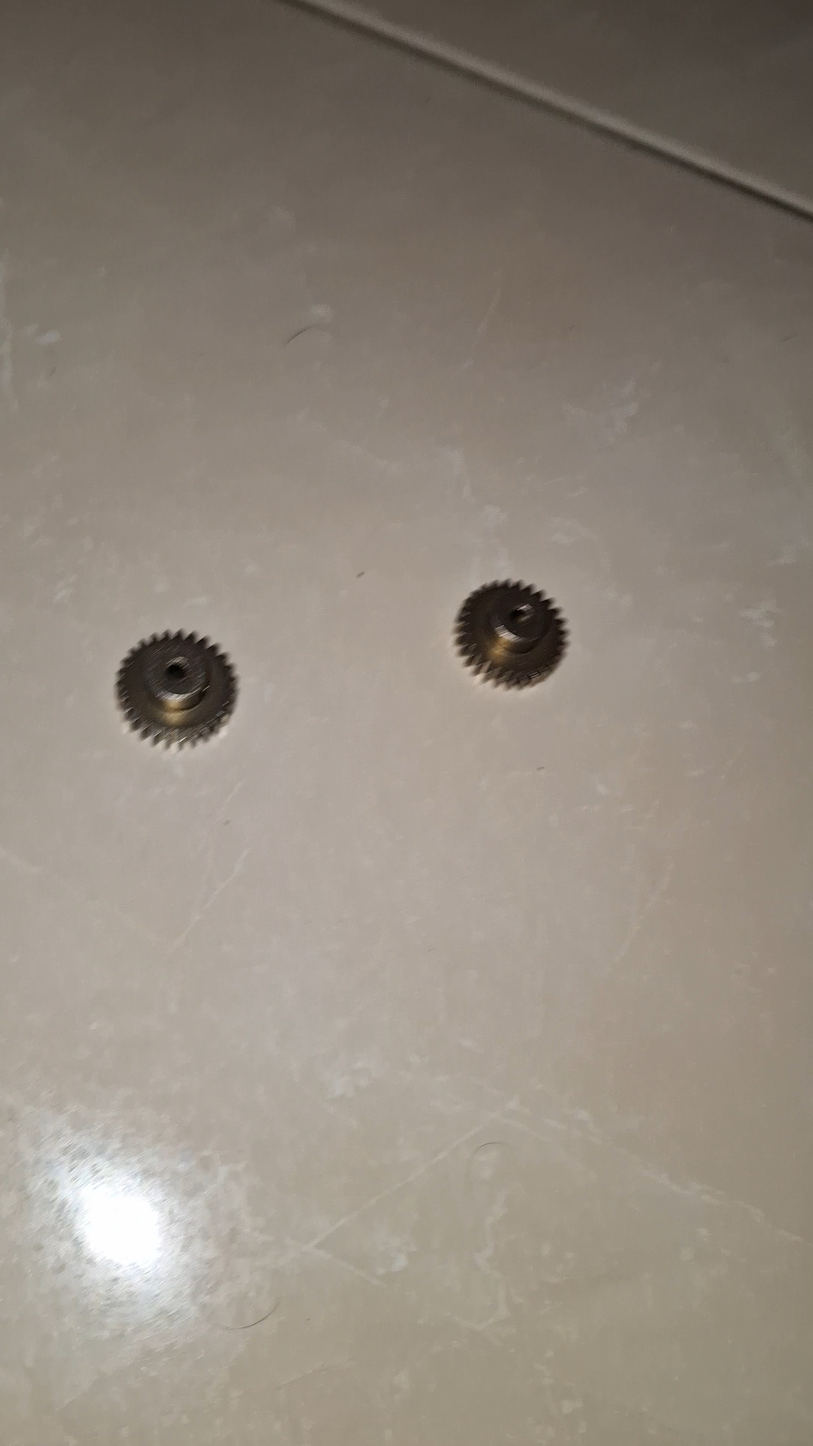spur gear: (116, 632, 236, 746), (455, 581, 567, 687)
